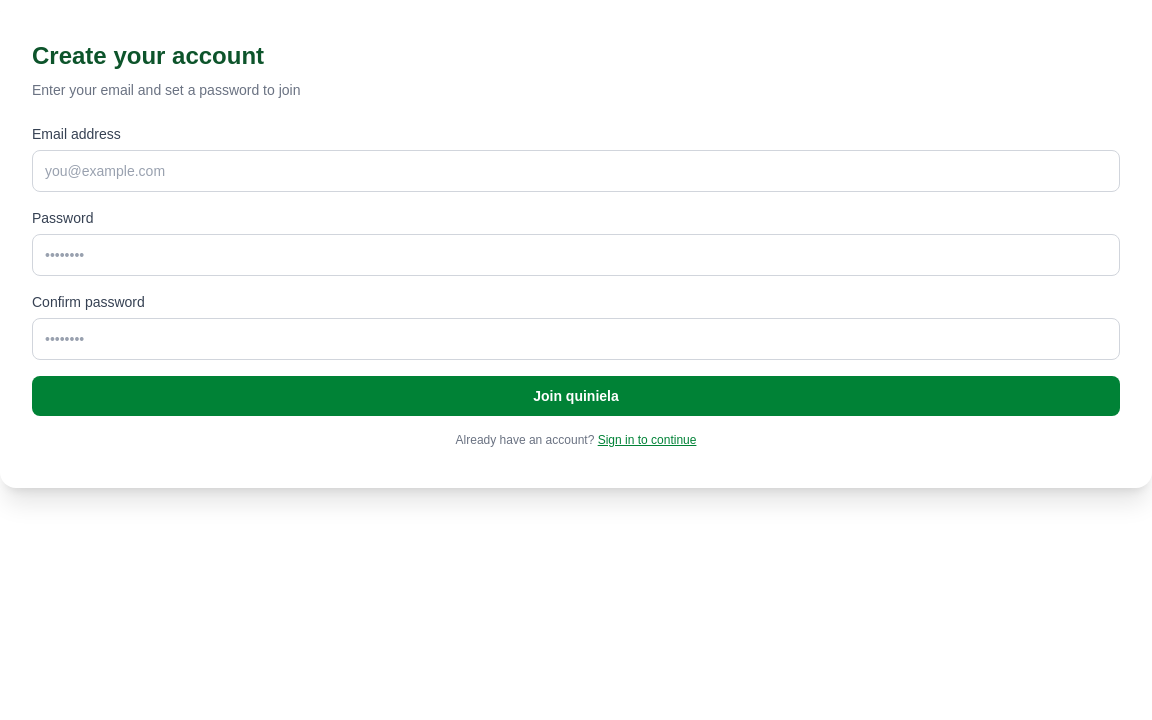
Test: InviteAcceptanceFlow (shortCode) › shows EMAIL_ALREADY_EXISTS error when account already exists
The image size is (1152, 720).
Type "existing@example.com" into the field labelled "Email address" at coordinates (576, 171), box x1=32 y1=150 x2=1120 y2=192
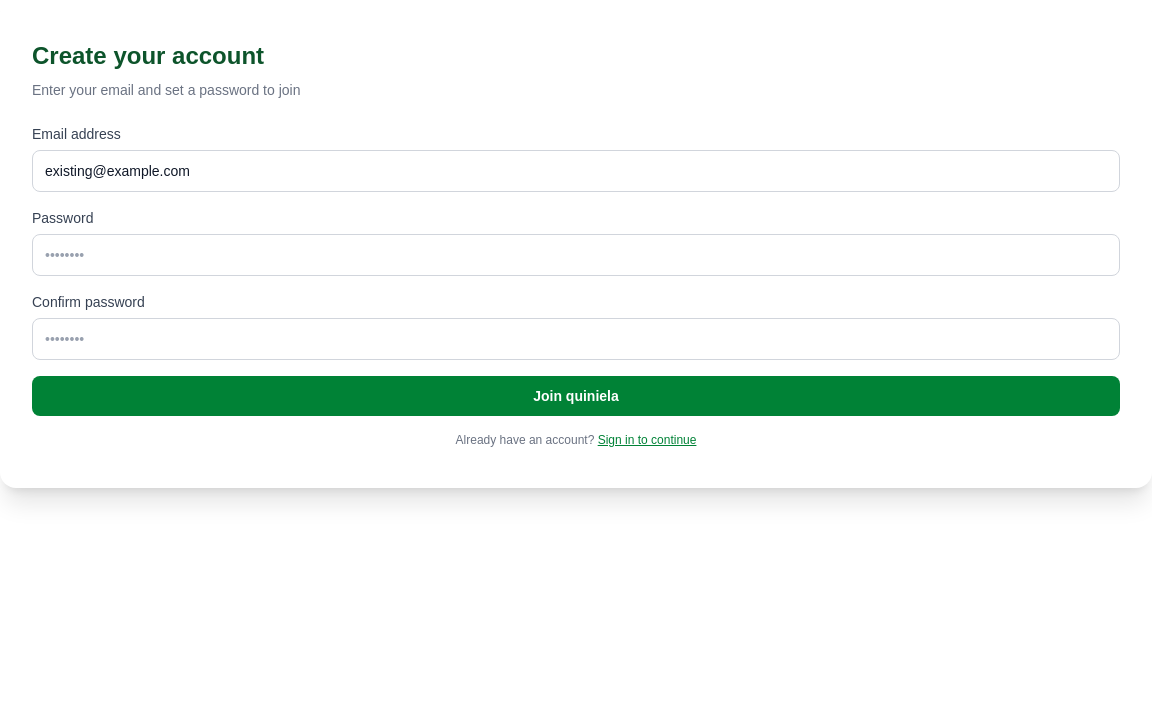
Type "password123" into the password field labelled "Password" at coordinates (576, 255), box x1=32 y1=234 x2=1120 y2=276
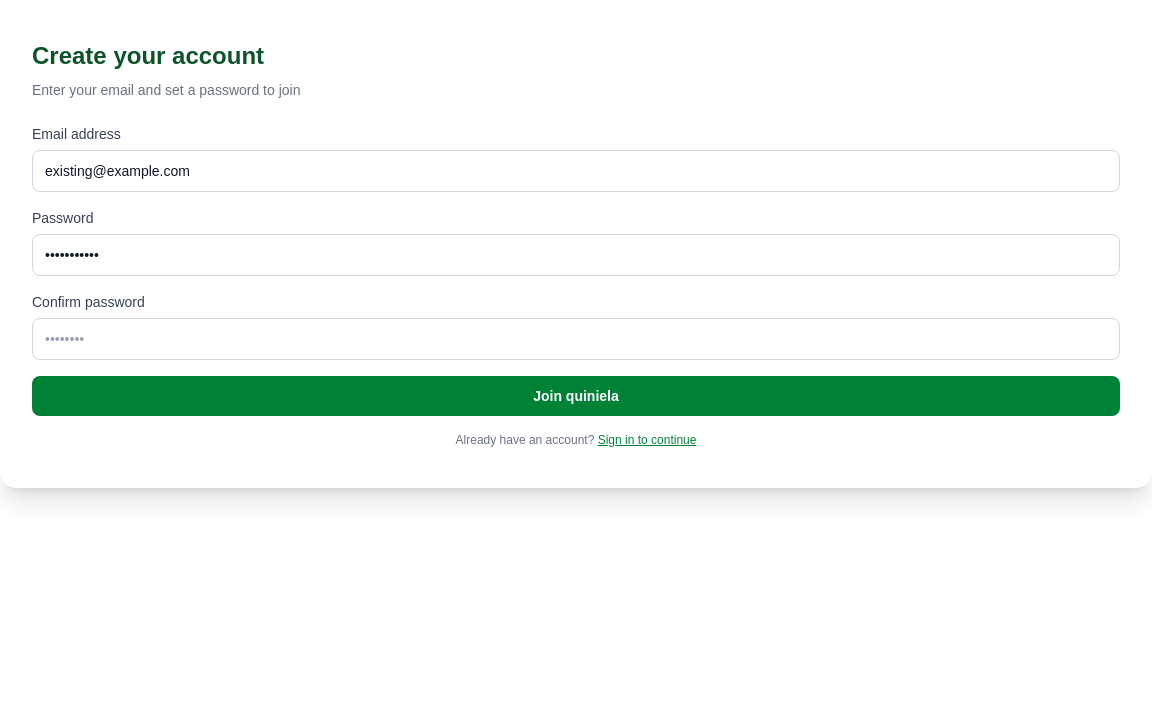
Type "password123" into the password field labelled "Confirm password" at coordinates (576, 339), box x1=32 y1=318 x2=1120 y2=360
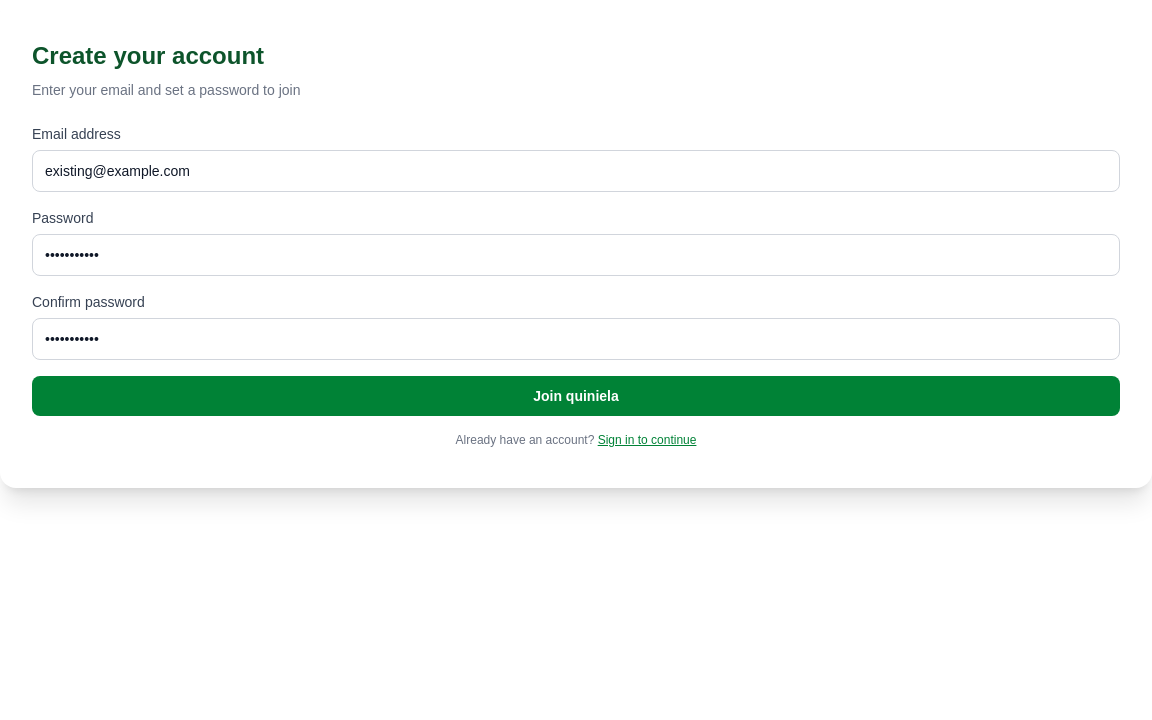
Submit the form labelled "Password", box x1=32 y1=124 x2=1120 y2=448
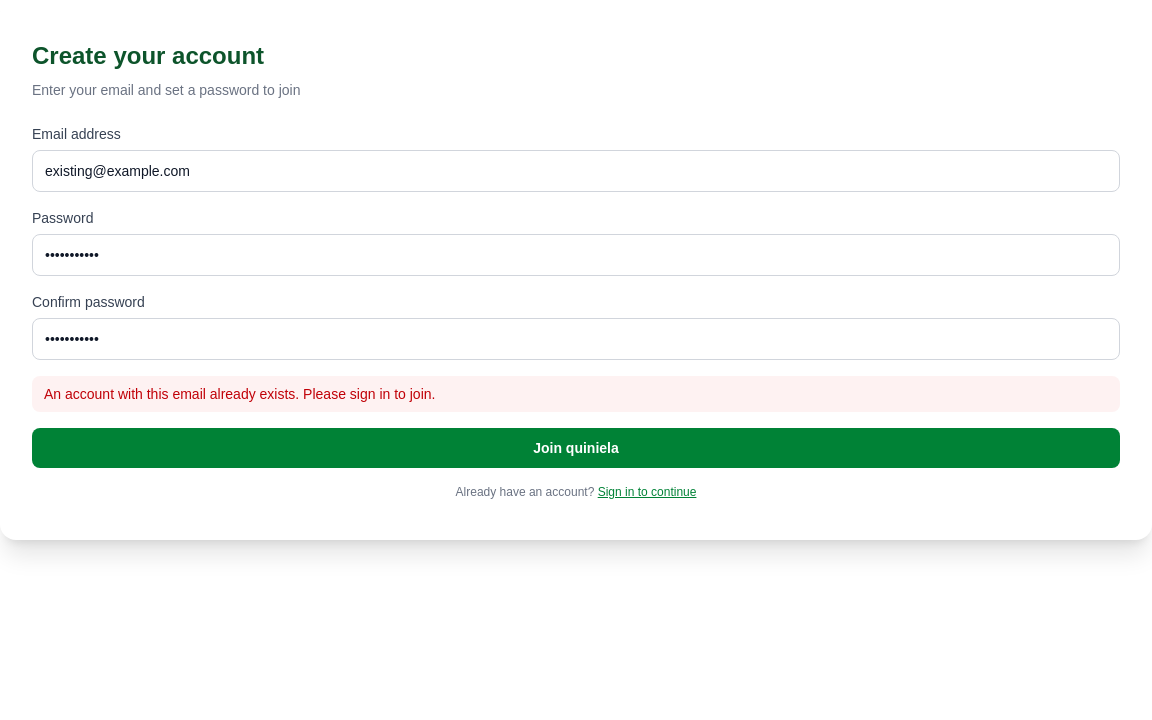
Check: the text "An account with this email already exists. Please sign in to join." is shown, box x1=32 y1=376 x2=1120 y2=412
